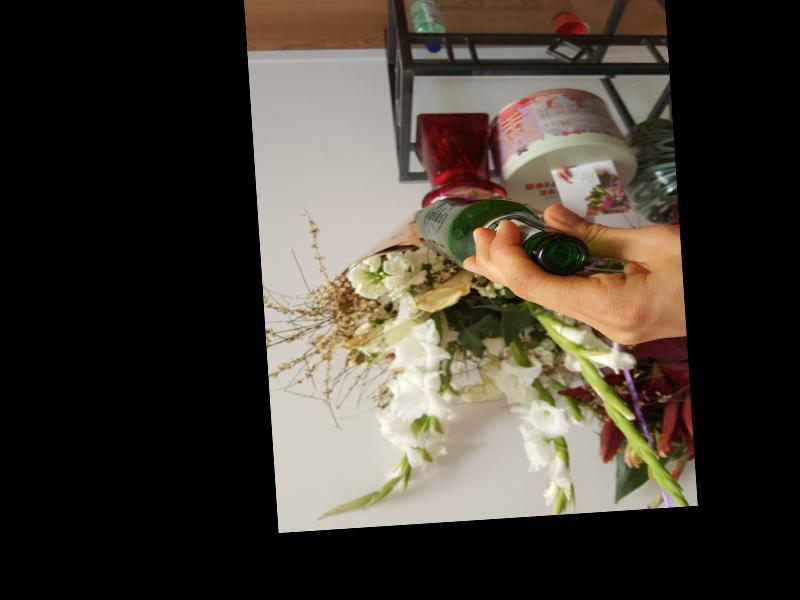Beer: (413, 188, 589, 283)
